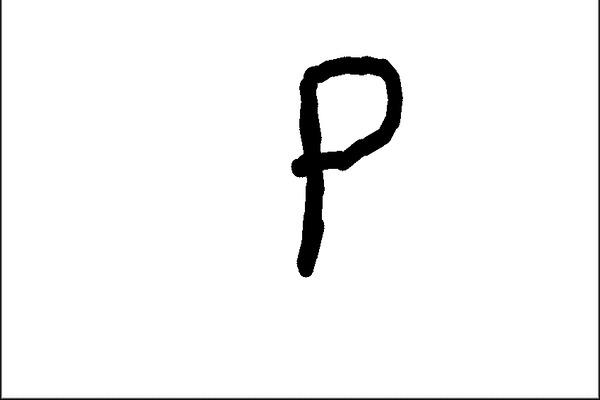P: (286, 51, 414, 293)
